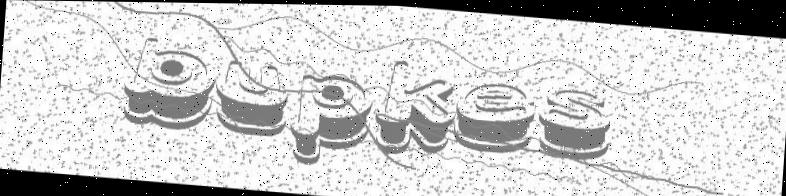b: (115, 20, 219, 131)
e: (451, 76, 543, 159)
k: (374, 53, 461, 164)
p: (286, 64, 373, 178)
s: (534, 78, 618, 163)
u: (209, 53, 290, 140)
